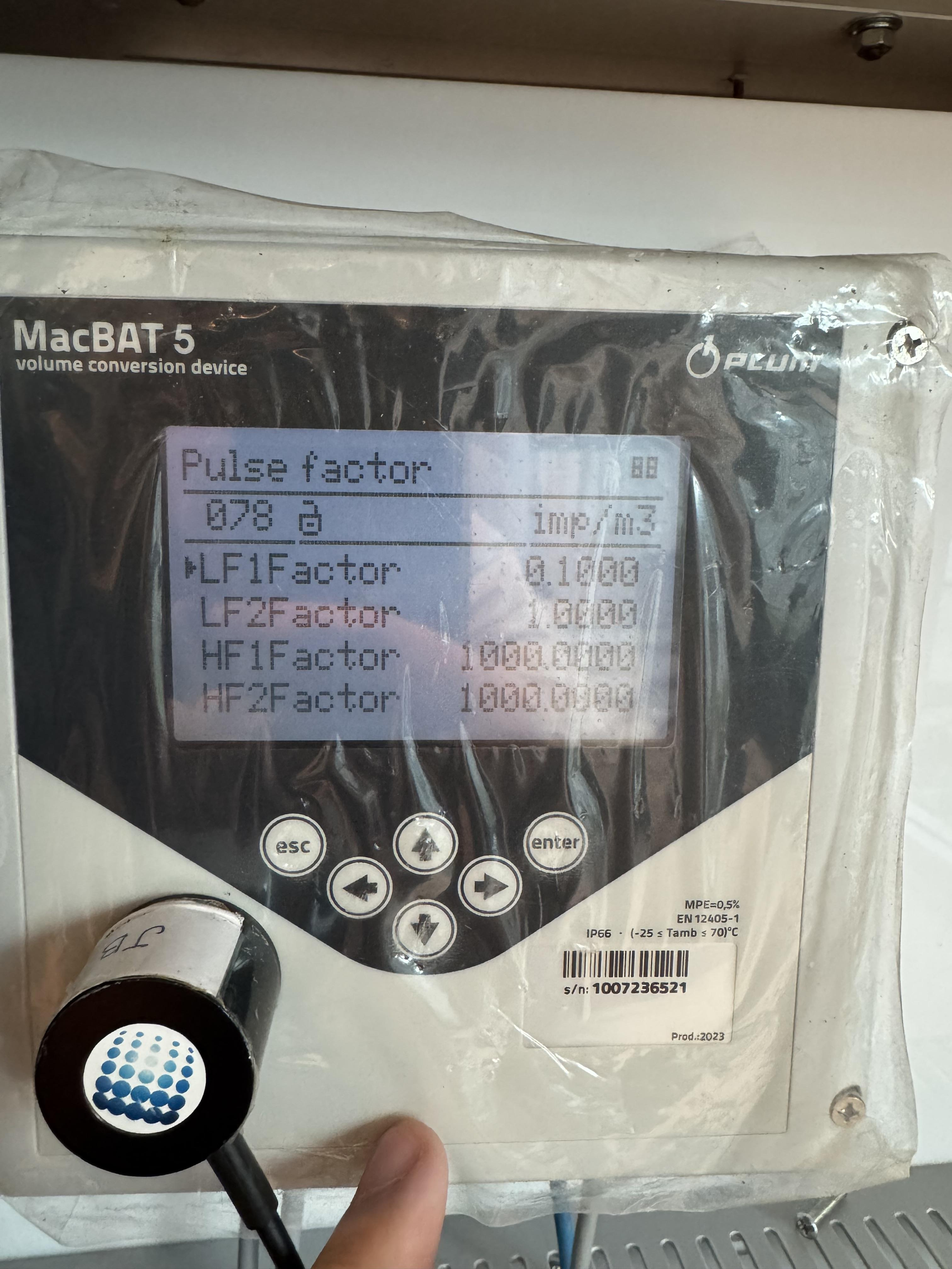digital_screen: (163, 428, 689, 745)
